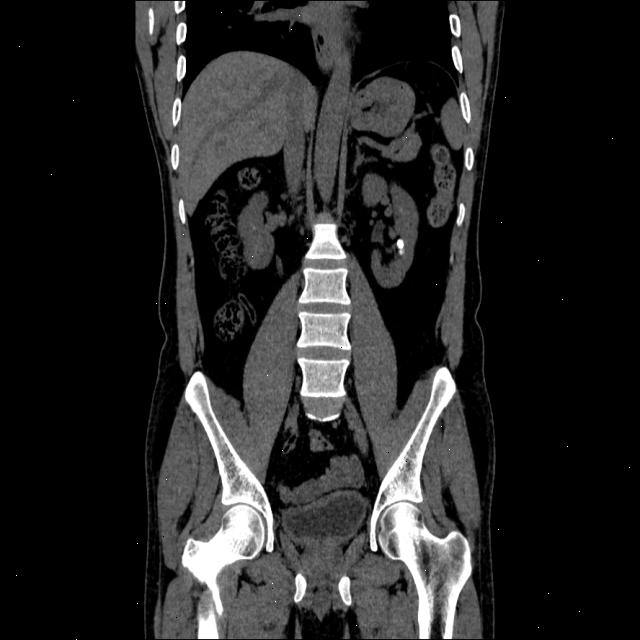kidneystone: (395, 238, 405, 256)
